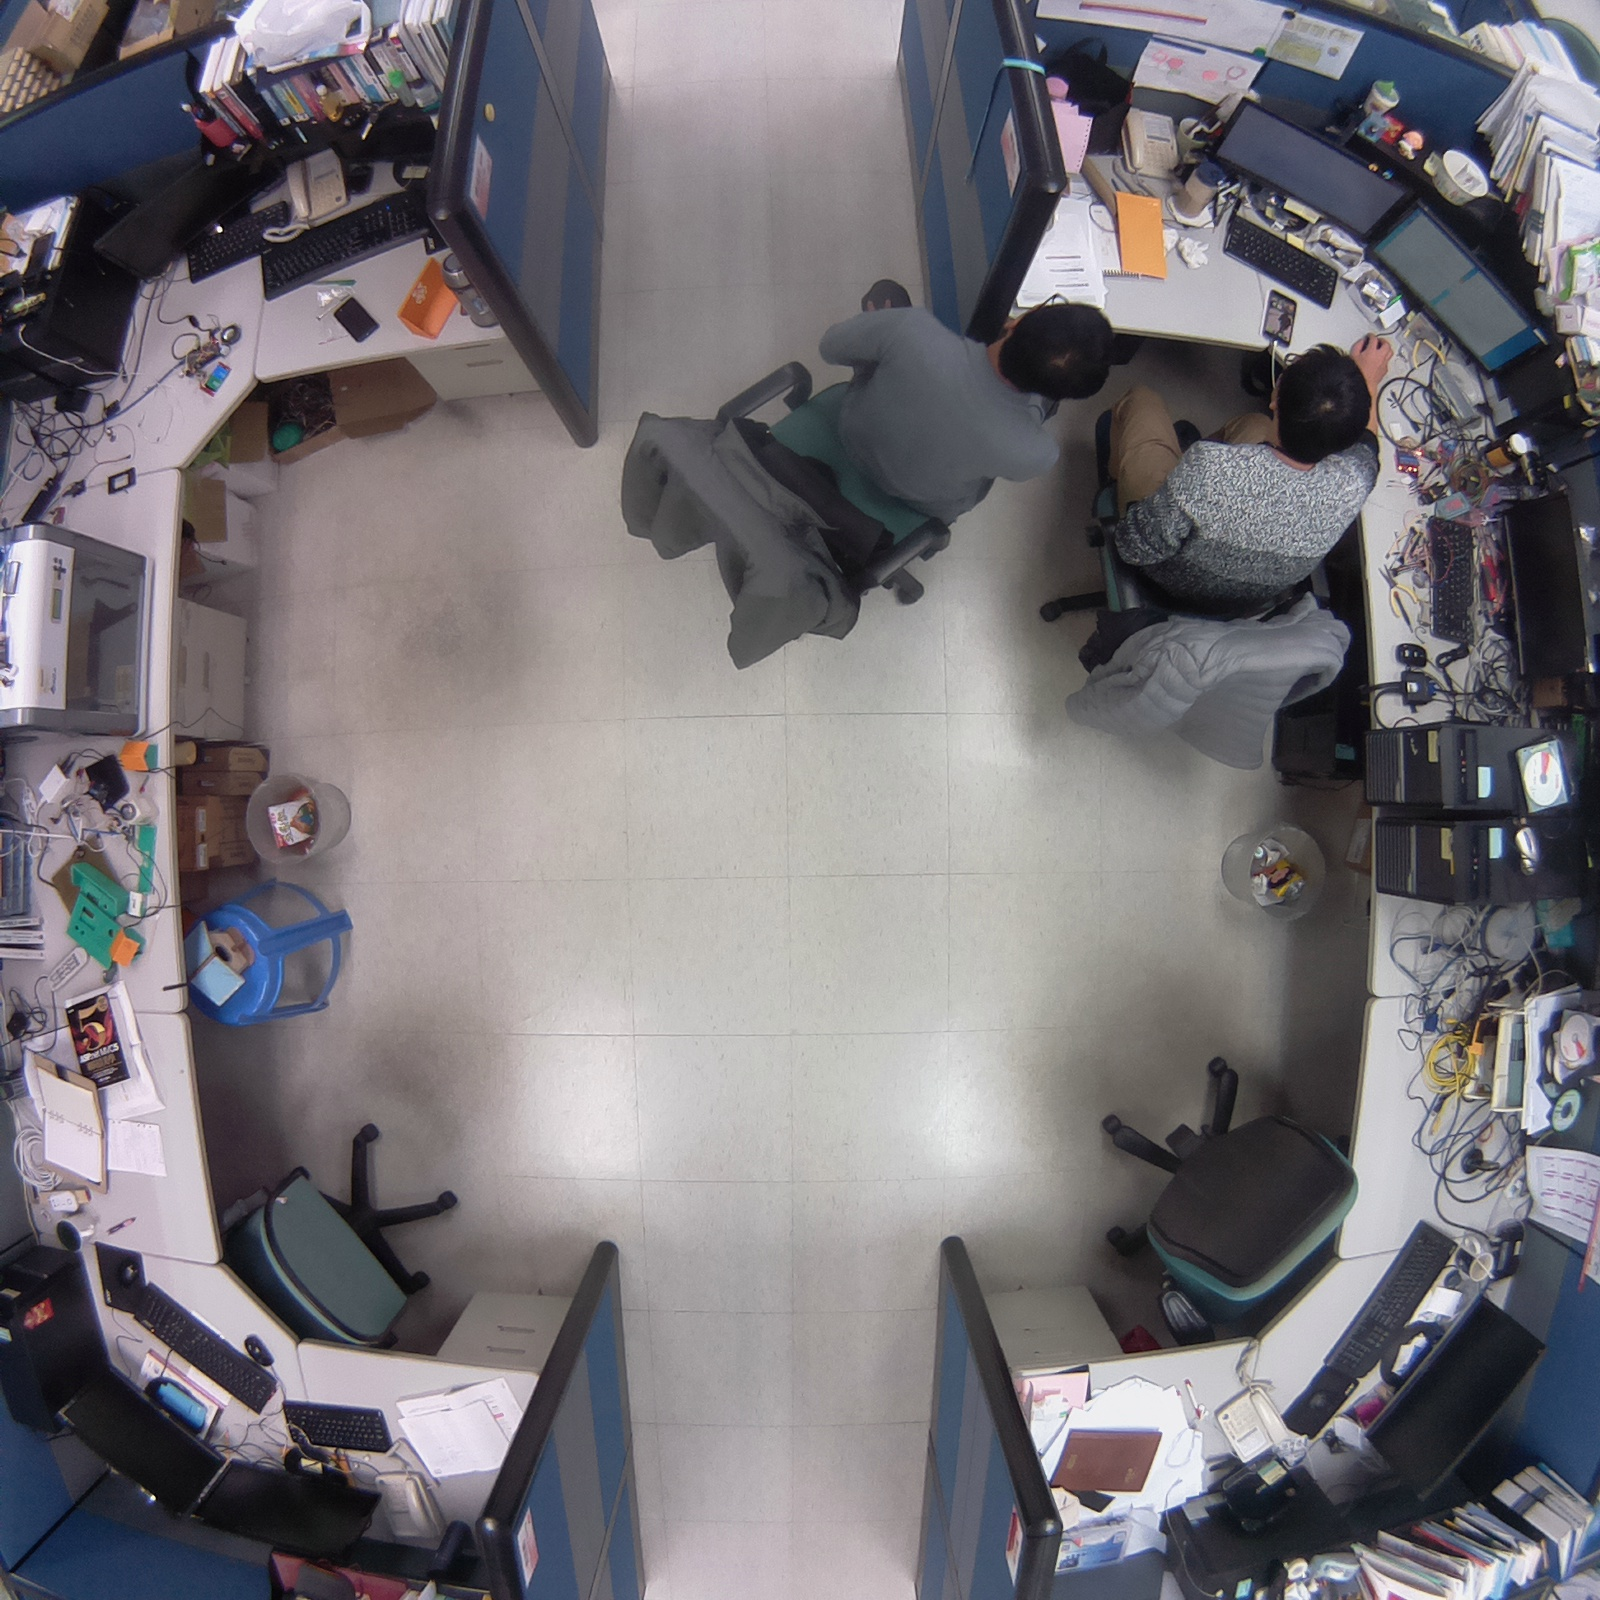chair: (1073, 1047, 1368, 1365), (206, 1099, 483, 1365)
head: (978, 289, 1125, 414), (1261, 340, 1380, 478)
sitting: (594, 269, 1118, 688), (1009, 346, 1390, 788)
